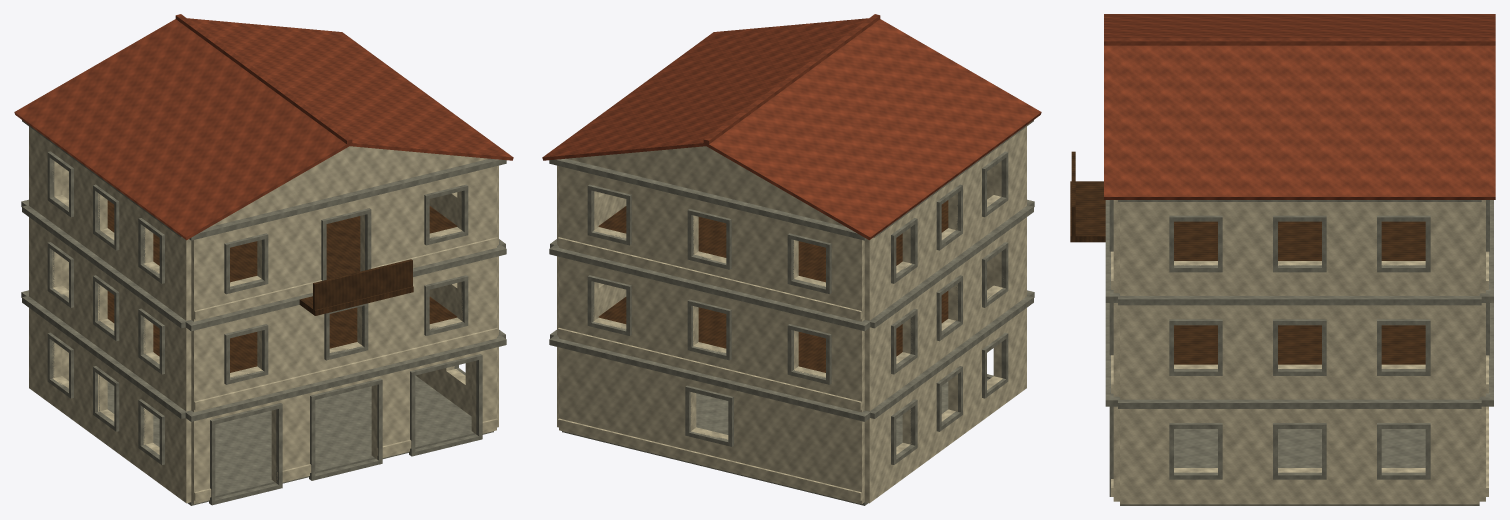
Rendered from insula_lod2.glb.
The picture shows the model from 3 angles, left to right: view 1: azimuth 30°, elevation 25°; view 2: azimuth 150°, elevation 25°; view 3: azimuth 270°, elevation 25°; orthographic projection. The views are drawn at different scales.
Parts seen in each view (by area): view 1: insula_lod2; view 2: insula_lod2; view 3: insula_lod2.
Boxes of the visible parts, x1,y1,x2,y2 form: insula_lod2: (14,14,513,505); insula_lod2: (542,14,1041,505); insula_lod2: (1070,14,1495,505).
Size of the model in its own units: 10.83 by 10.54 by 10.64.
Materials: 4 (4 with a texture image).
